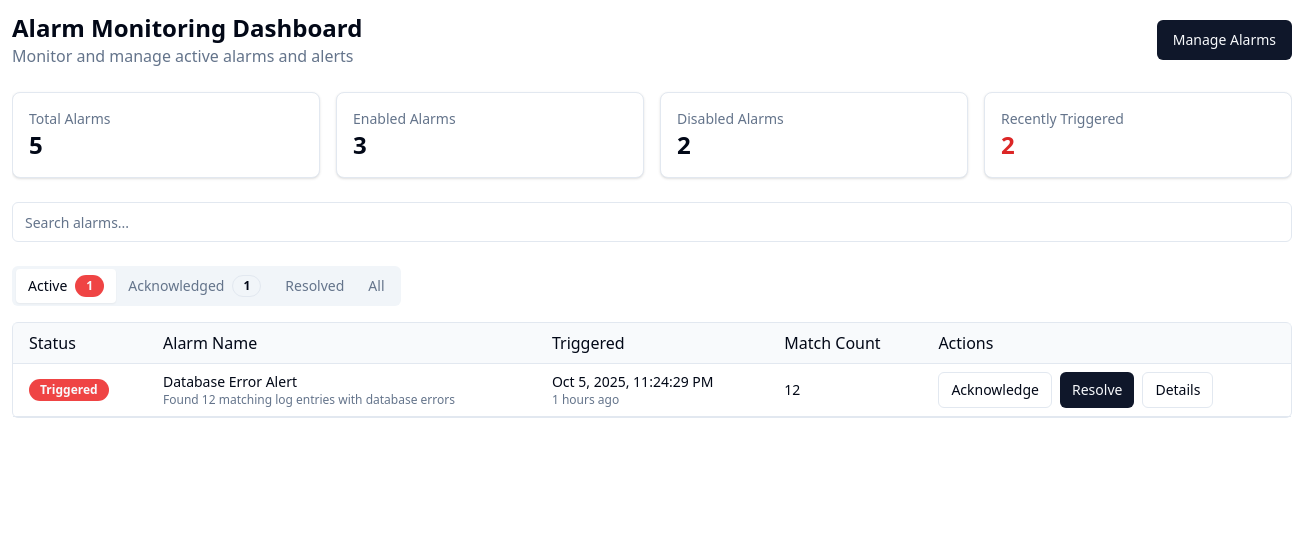
Test case: AlarmMonitoringPage › displays alarm events in a table
Expected: the text "Database Error Alert" is shown, left=163, top=372, right=297, bottom=391
Expected: the text "Found 12 matching log entries with database errors" is shown, left=163, top=391, right=455, bottom=408
# Switch to "all" tab to see all events including "API Timeout Alert"
Click the tab "All": (376, 286) left=356, top=270, right=396, bottom=302
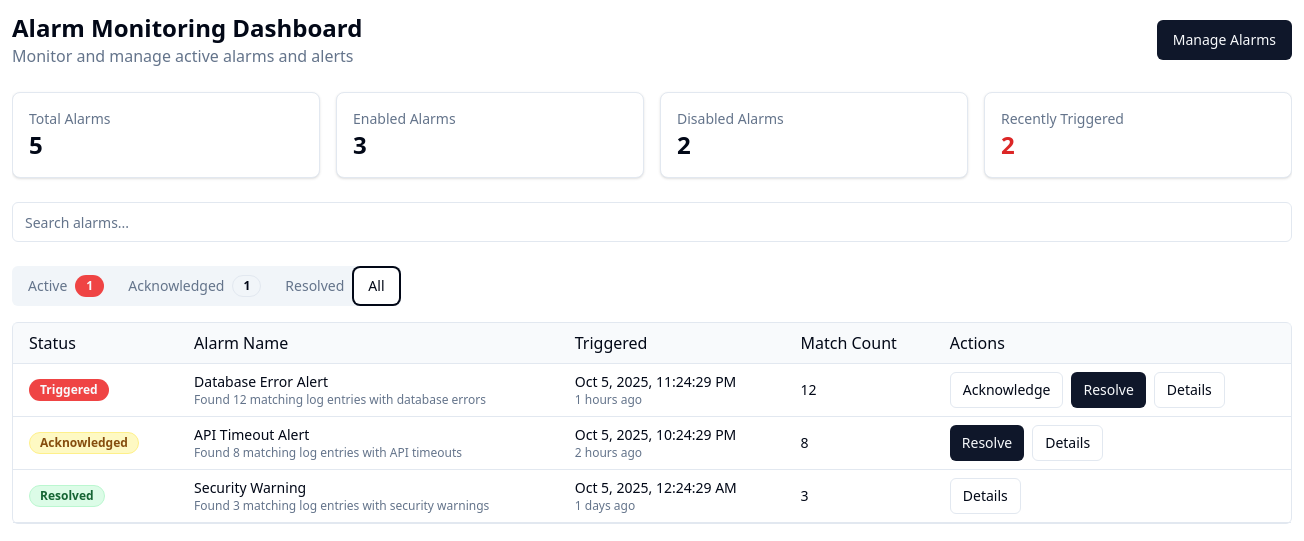
Expected: the text "API Timeout Alert" is shown, left=194, top=425, right=309, bottom=444
